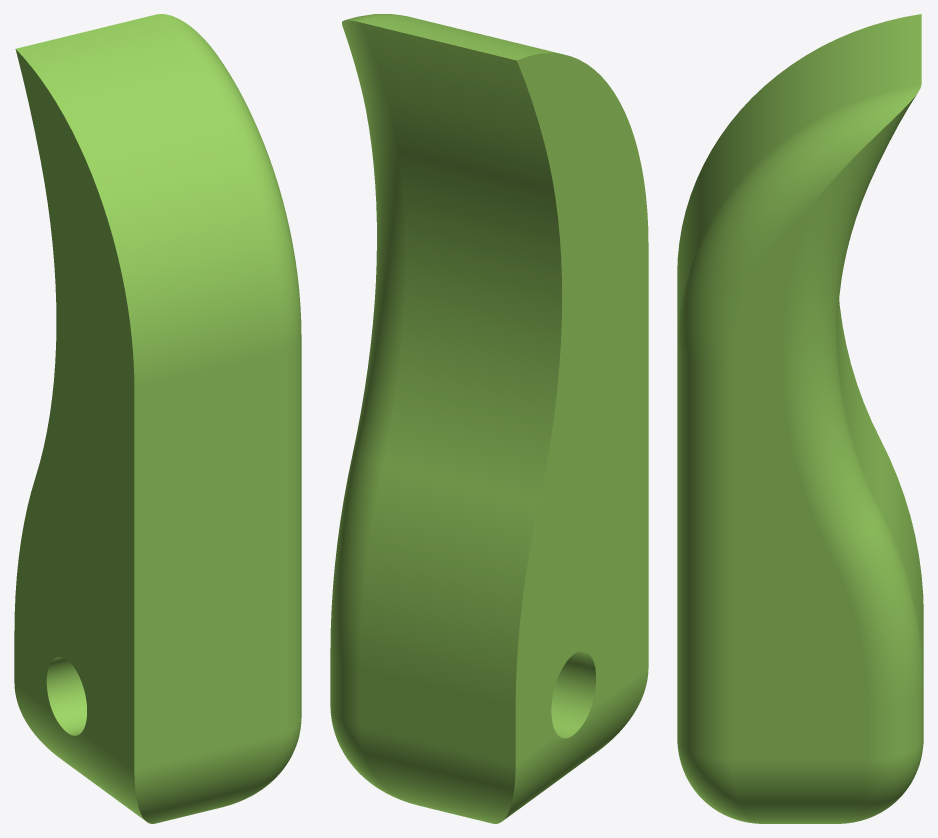
The model's file is DoorHandle.fbx.
3 renders of one model, left to right at view 1: azimuth 30°, elevation 25°; view 2: azimuth 150°, elevation 25°; view 3: azimuth 270°, elevation 25°, orthographic. The views are drawn at different scales.
Visible parts, largest first — view 1: DoorHandle v1; view 2: DoorHandle v1; view 3: DoorHandle v1.
Boxes of the visible parts, x1,y1,x2,y2 form: DoorHandle v1: (14, 14, 301, 823); DoorHandle v1: (330, 14, 648, 823); DoorHandle v1: (677, 14, 923, 823).
Size of the model in its own units: 800 by 2995 by 889.
